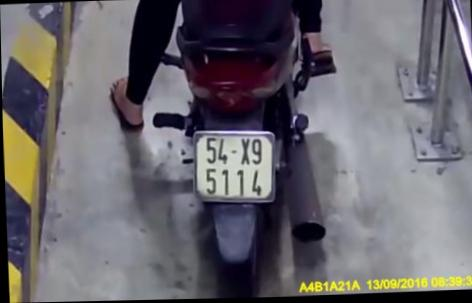LP: (189, 129, 277, 205)
